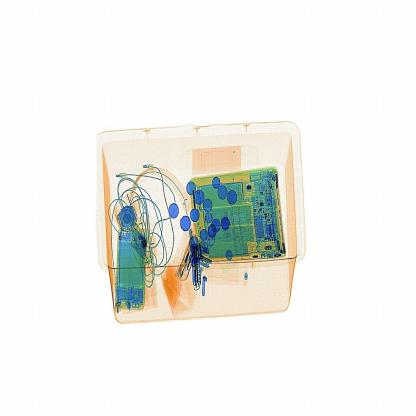scissors: (186, 235, 215, 294)
